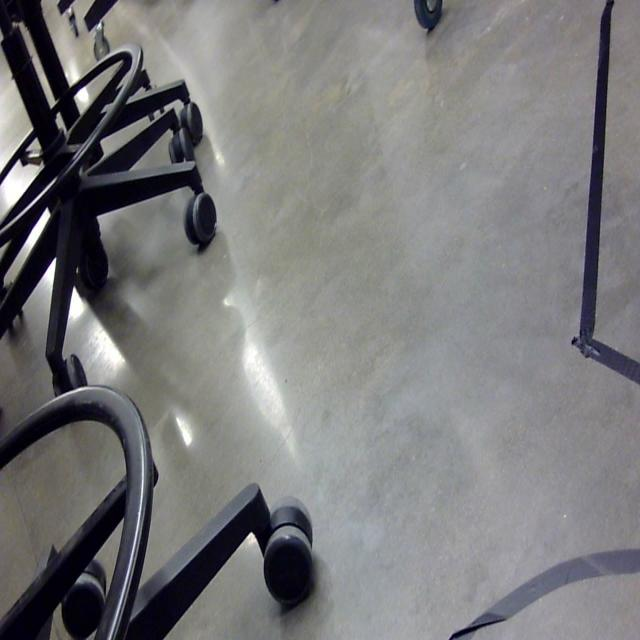tape: (574, 0, 640, 384), (448, 551, 640, 640)
